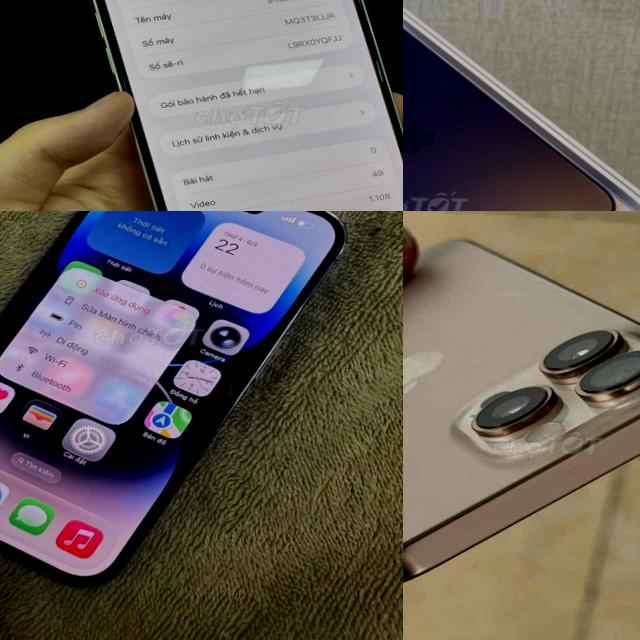gen_14: (0, 211, 356, 621), (63, 0, 403, 211), (403, 0, 628, 211)
gen_16: (403, 239, 640, 580)
